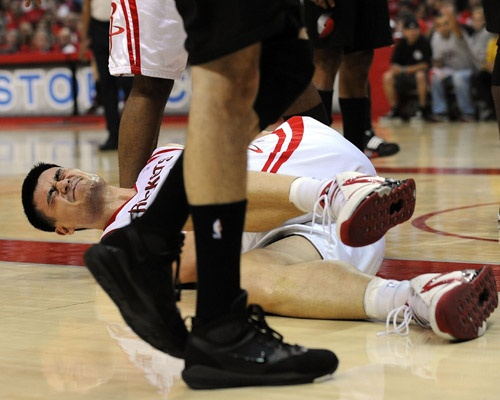falling: (18, 112, 490, 371)
